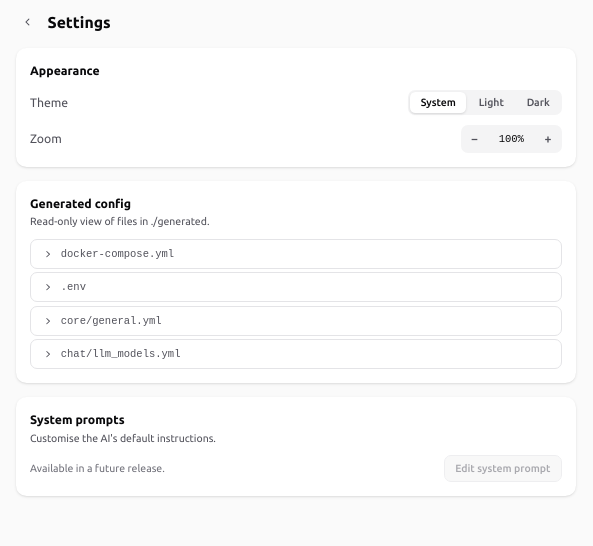
Test: settings/+page.svelte › copy button appears after file loads
What coordinates should you click on to do the following:
click the button with test id "toggle-.env"
I would click on:
 (48, 287)
Its box is [31,273,561,301].
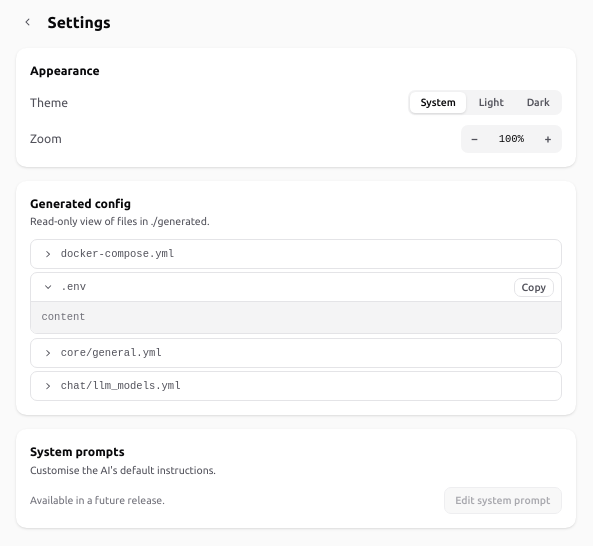
Now the button with test id "copy-.env" is shown, box [514,278,554,297]
